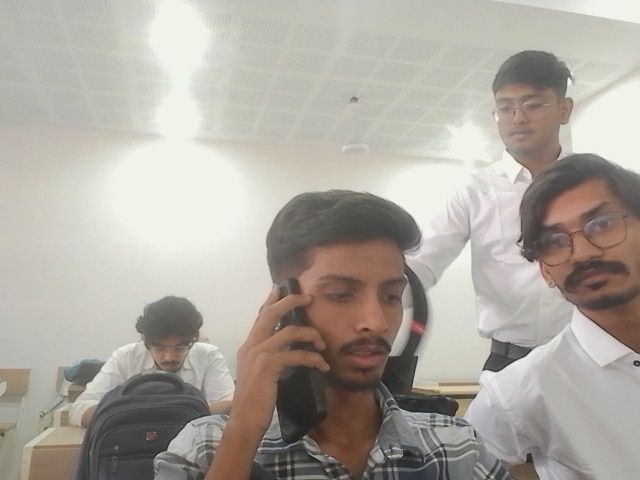fan_on: (339, 94, 369, 155)
light_on: (152, 2, 206, 142), (399, 176, 449, 304), (536, 67, 601, 110)
person: (151, 189, 521, 479), (462, 152, 639, 479), (406, 63, 575, 393), (66, 295, 229, 429)
